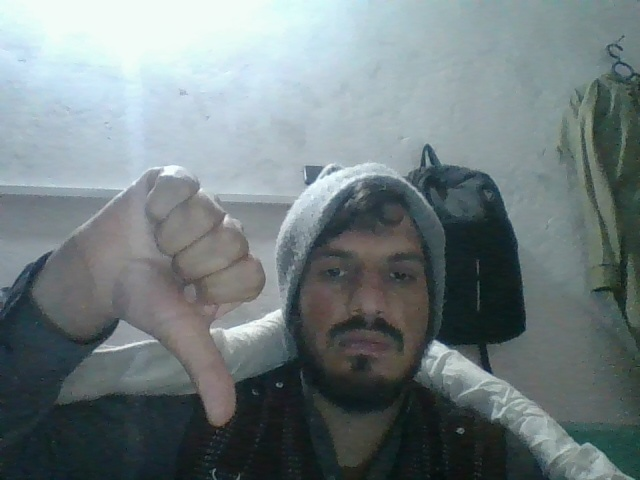ThumbsDown: (69, 163, 268, 431)
